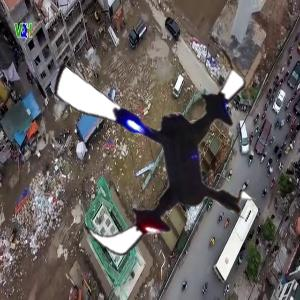drone: (33, 24, 278, 269)
